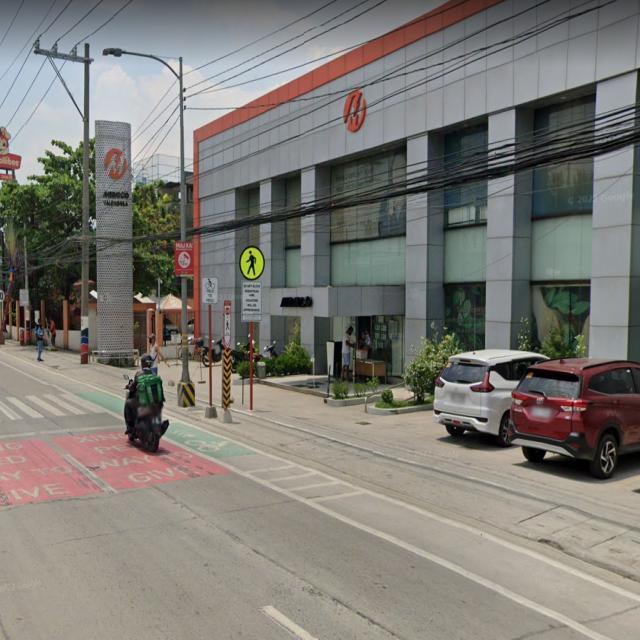bike lane: (201, 277, 219, 305)
pedestrian crossing: (238, 243, 268, 283)
